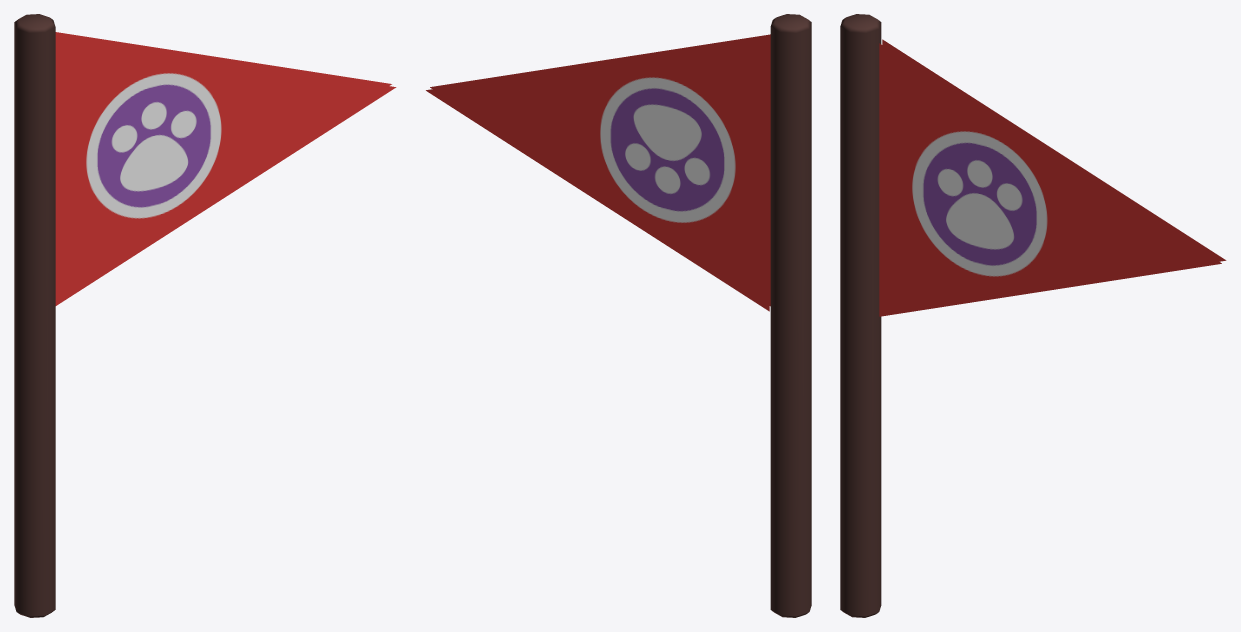
File: gau_flag.fbx
3 renders of one model, left to right at view 1: azimuth 30°, elevation 25°; view 2: azimuth 150°, elevation 25°; view 3: azimuth 330°, elevation 25°, orthographic.
Parts seen in each view (by area): view 1: Gau_flag; view 2: Gau_flag; view 3: Gau_flag.
Part boxes in pixels (box(x1,y1,x2,y2)): Gau_flag: box(14, 14, 396, 617); Gau_flag: box(426, 14, 811, 617); Gau_flag: box(840, 14, 1226, 617).
Size of the model in its own units: 149 by 222 by 14.51.
